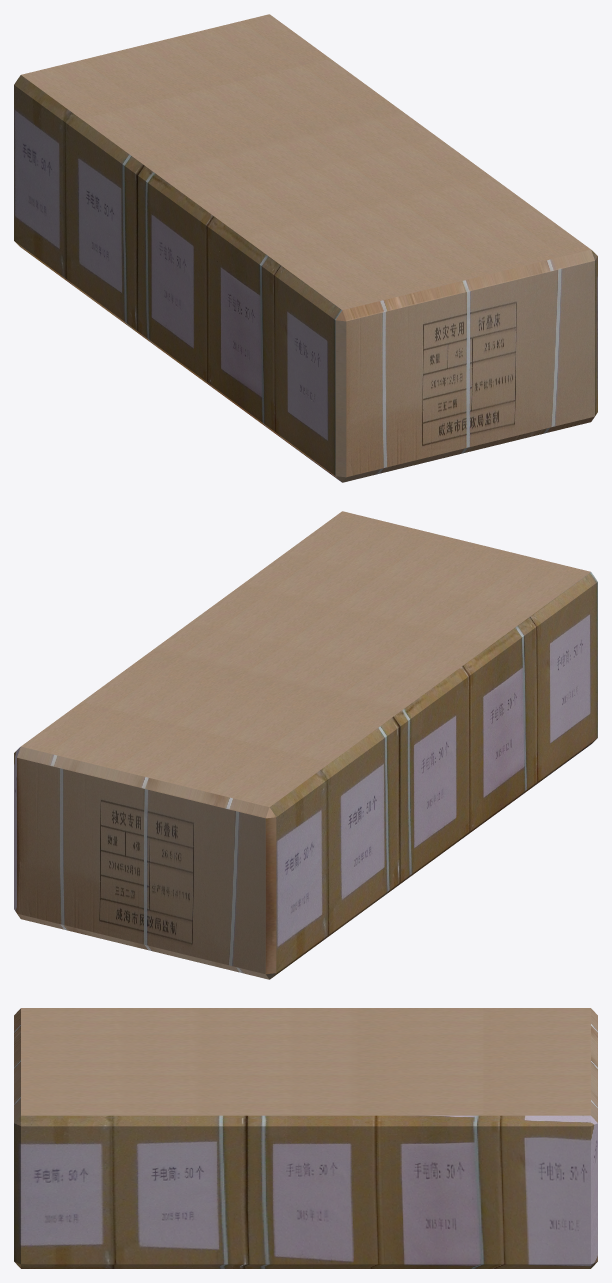
Rendered from shoudiantong.FBX.
The picture shows the model from 3 angles, top to bottom: view 1: azimuth 30°, elevation 25°; view 2: azimuth 150°, elevation 25°; view 3: azimuth 270°, elevation 25°; orthographic projection. The views are drawn at different scales.
Parts seen in each view (by area): view 1: 对象09; view 2: 对象09; view 3: 对象09.
Boxes of the visible parts, bbox=[...] form: 对象09: bbox=[14, 14, 597, 482]; 对象09: bbox=[14, 511, 597, 979]; 对象09: bbox=[14, 1008, 597, 1268].
Bounding box in the file's own units: 0.7354 × 1.6 × 0.4622.
